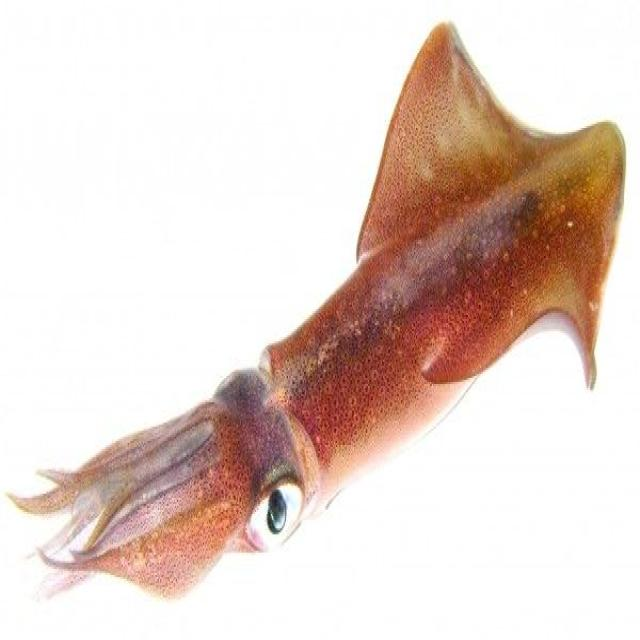SQUID: (47, 27, 637, 601)
